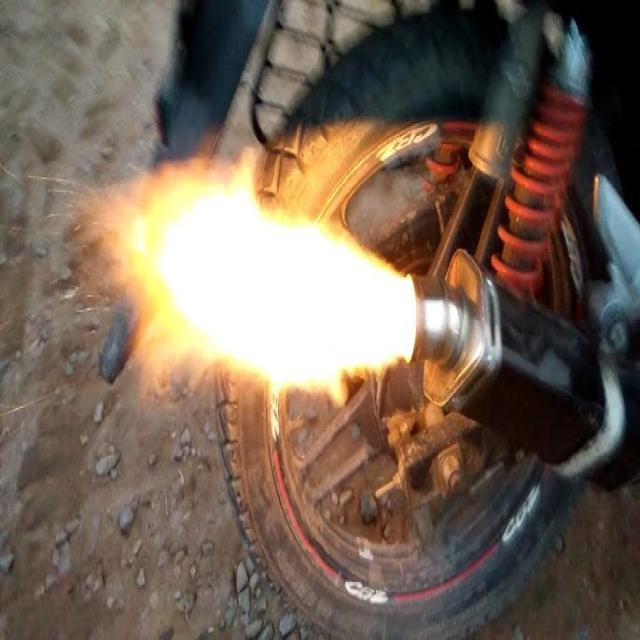fire: (89, 154, 417, 406)
